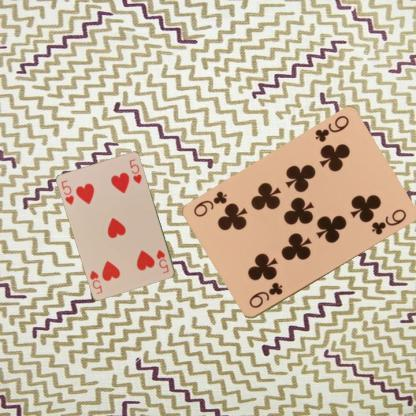5h: (59, 178, 75, 206), (154, 247, 170, 274)
9c: (312, 113, 351, 144), (246, 280, 284, 310)
